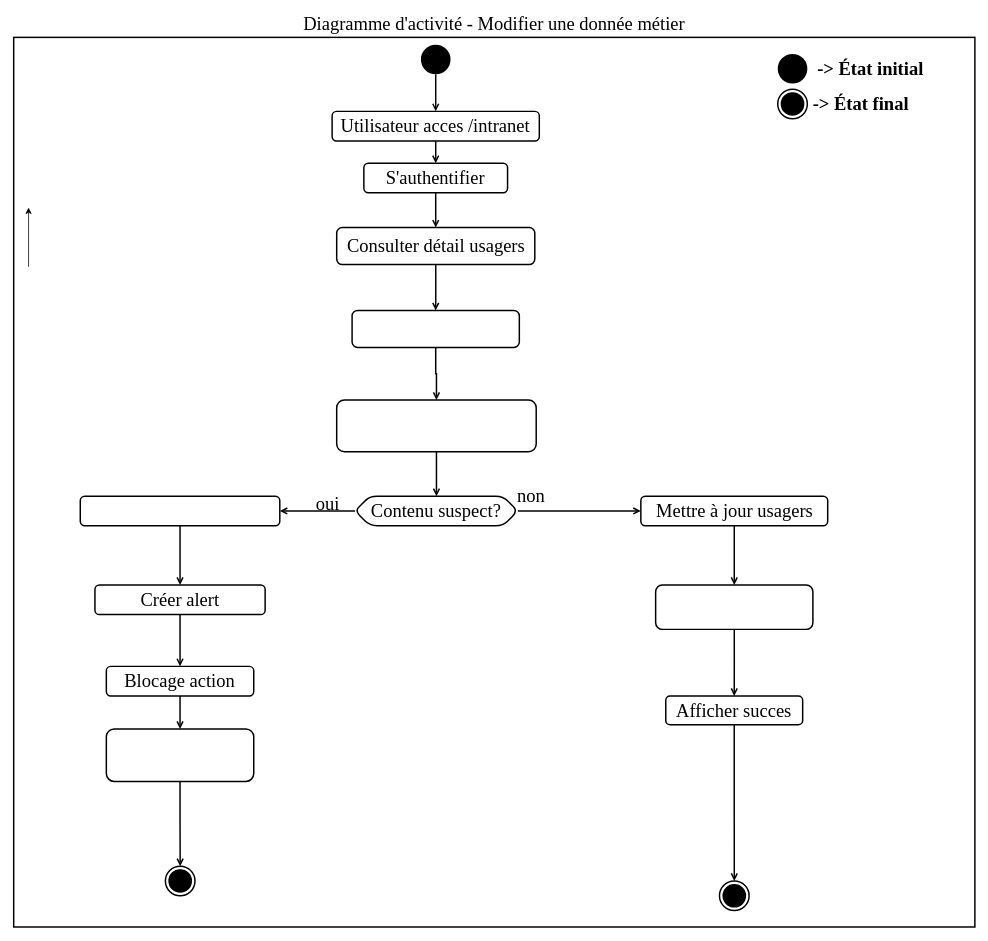
The diagram is 988 pixels wide and 941 high, and some of its shapes have lost their labels. The centre of each missing label's shape, as x and y in pixels:
Afficher message de modération: the point at 179,755
Analyser contenu (pattern XSS, SQL injection): the point at 436,425
Auditer action: the point at 734,607
Auditer action suspecte: the point at 179,510
Modifie champ nom: the point at 435,328
